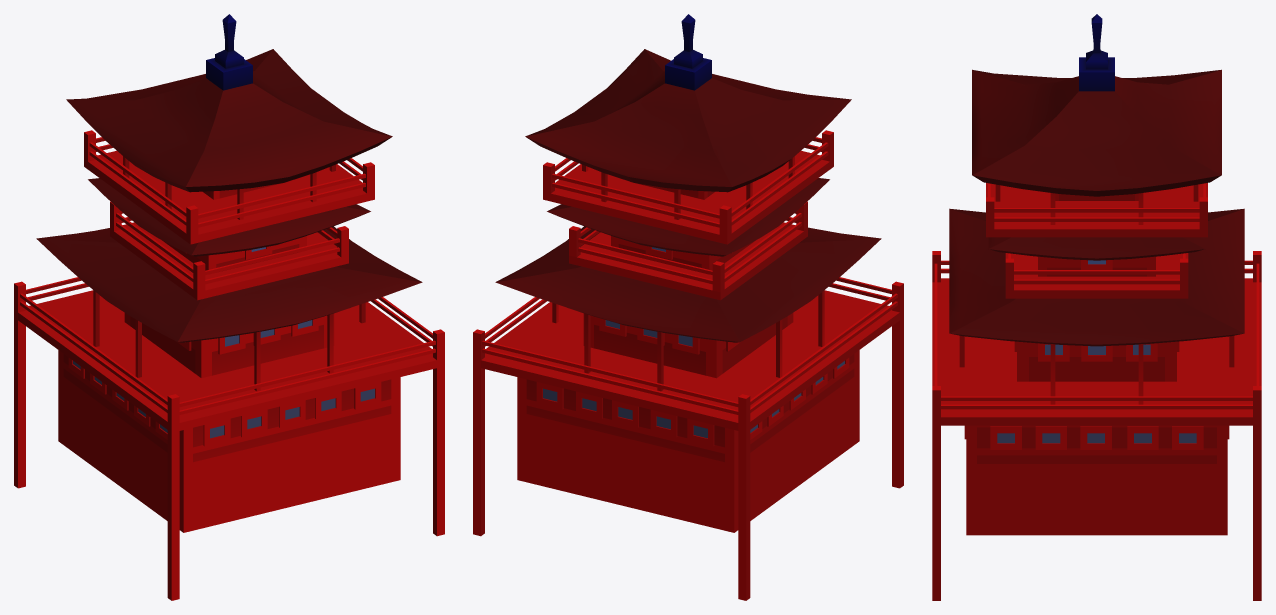
File: buildings-historical-pagoda_v1.fbx
3 renders of one model, left to right at view 1: azimuth 30°, elevation 25°; view 2: azimuth 150°, elevation 25°; view 3: azimuth 270°, elevation 25°, orthographic. The views are drawn at different scales.
Parts seen in each view (by area): view 1: Pagoda_base, Pagoda_refl, Pagoda_windowRefl; view 2: Pagoda_base, Pagoda_refl, Pagoda_windowRefl; view 3: Pagoda_base, Pagoda_refl, Pagoda_windowRefl.
Part boxes in pixels (<box>): Pagoda_base: <box>14,49,444,600</box>; Pagoda_refl: <box>206,14,252,90</box>; Pagoda_windowRefl: <box>73,247,374,438</box>; Pagoda_base: <box>473,49,903,600</box>; Pagoda_refl: <box>665,14,711,90</box>; Pagoda_windowRefl: <box>543,247,844,438</box>; Pagoda_base: <box>932,69,1261,600</box>; Pagoda_refl: <box>1079,14,1114,91</box>; Pagoda_windowRefl: <box>997,260,1196,443</box>.
Bounding box in the file's own units: 16.81 × 29.18 × 16.82.
